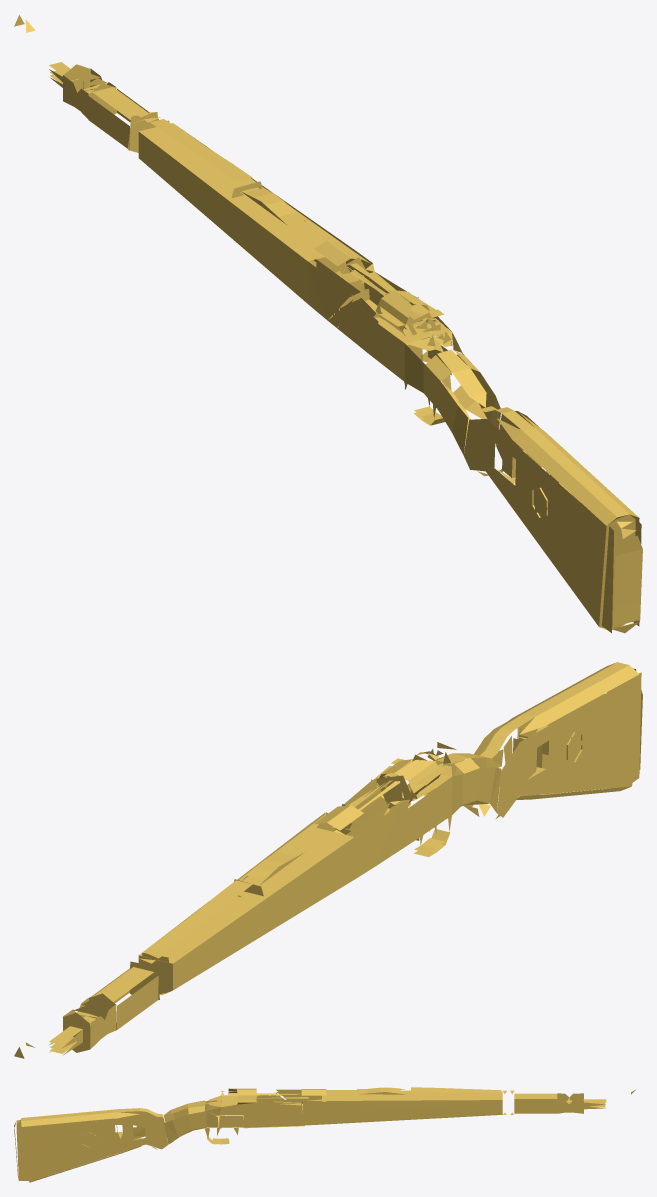
File: charm_mst_sniper_0.glb
The picture shows the model from 3 angles, top to bottom: view 1: azimuth 30°, elevation 25°; view 2: azimuth 150°, elevation 25°; view 3: azimuth 270°, elevation 25°; orthographic projection. The views are drawn at different scales.
Parts seen in each view (by area): view 1: p0_paint; view 2: p0_paint; view 3: p0_paint.
Boxes of the visible parts, x1,y1,x2,y2 form: p0_paint: [14, 15, 642, 633]; p0_paint: [14, 662, 642, 1058]; p0_paint: [14, 1087, 635, 1182].
Bounding box in the file's own units: 0.0508 × 0.1789 × 1.1.
